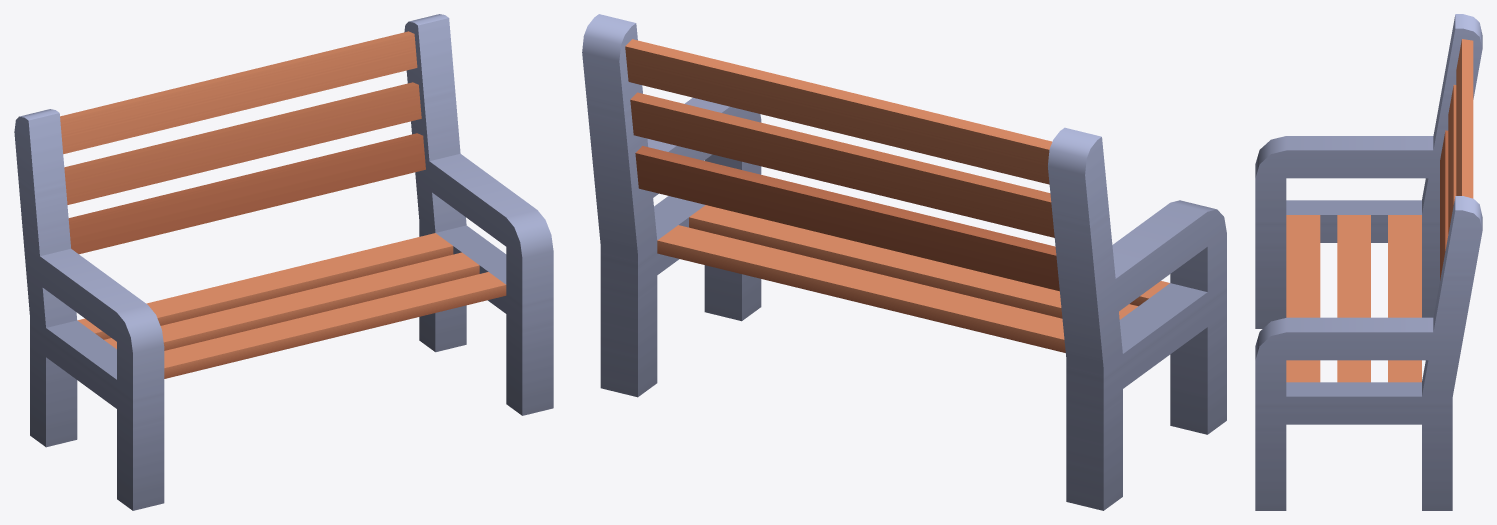
The model's file is bench.glb.
The picture shows the model from 3 angles, left to right: view 1: azimuth 30°, elevation 25°; view 2: azimuth 150°, elevation 25°; view 3: azimuth 270°, elevation 25°; orthographic projection. The views are drawn at different scales.
Parts seen in each view (by area): view 1: Asset3DLoader.sceneRoot; view 2: Asset3DLoader.sceneRoot; view 3: Asset3DLoader.sceneRoot.
Part boxes in pixels (x1,y1,x2,y2): Asset3DLoader.sceneRoot: (14,14,553,510); Asset3DLoader.sceneRoot: (582,14,1226,510); Asset3DLoader.sceneRoot: (1255,14,1482,510).
Bounding box in the file's own units: 0.7695 × 0.549 × 0.3758.
1 material, 1 textured.
